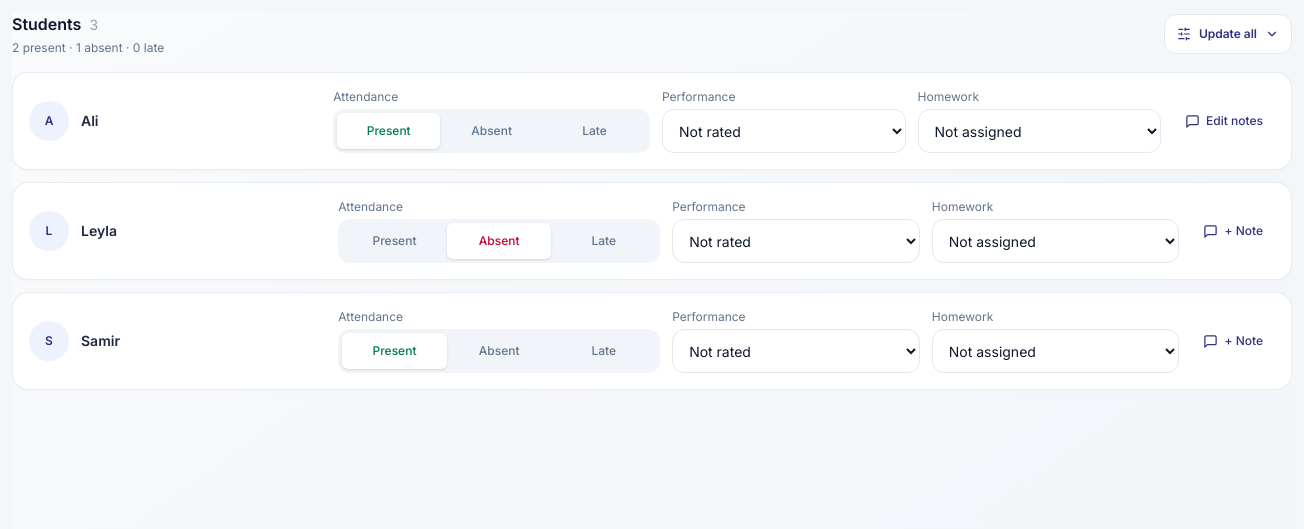
Scenario: Update all changes chosen fields and preserves existing notes and attendance
Click the button "Update all" at (1228, 34), box [1164,14,1292,54]
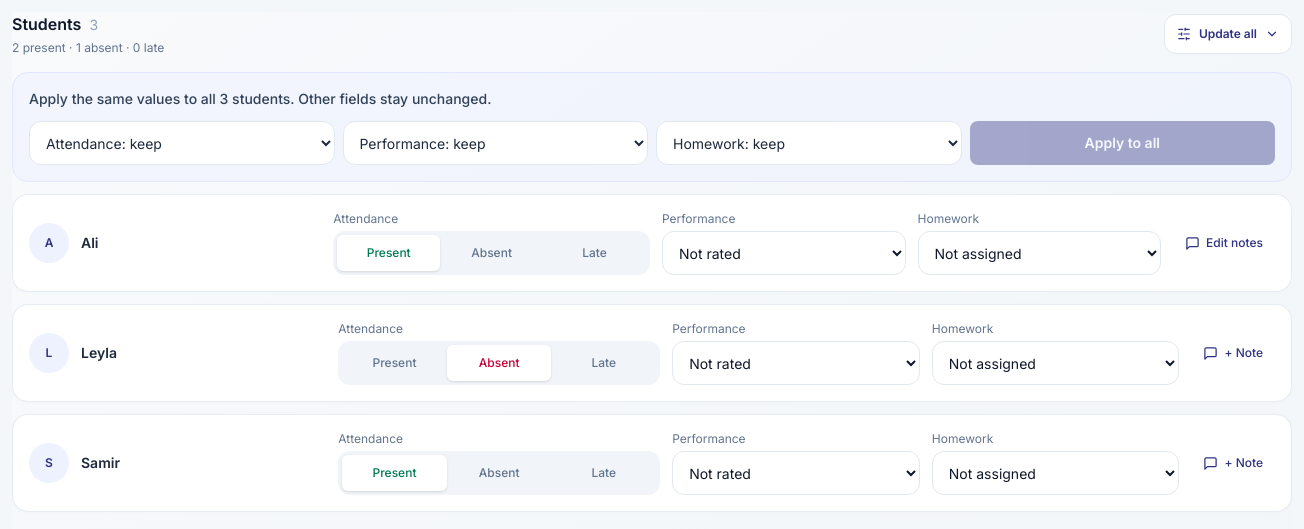
Select "Good" in the dropdown named "All students performance" at (495, 143), box [342,121,648,165]
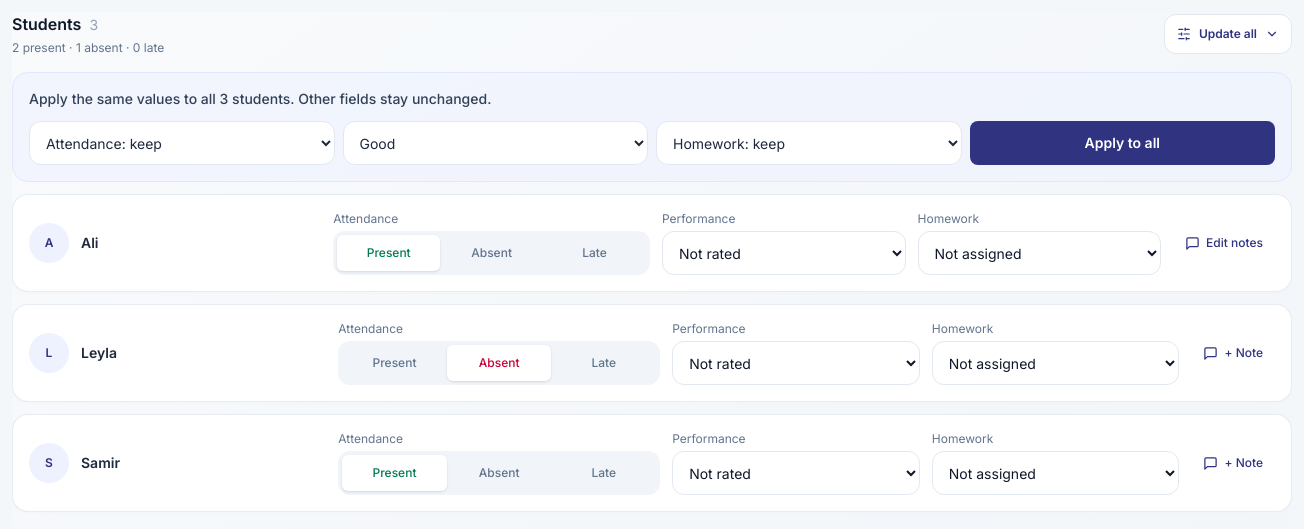
Select "Completed" in the dropdown named "All students homework" at (809, 143), box [656,121,962,165]
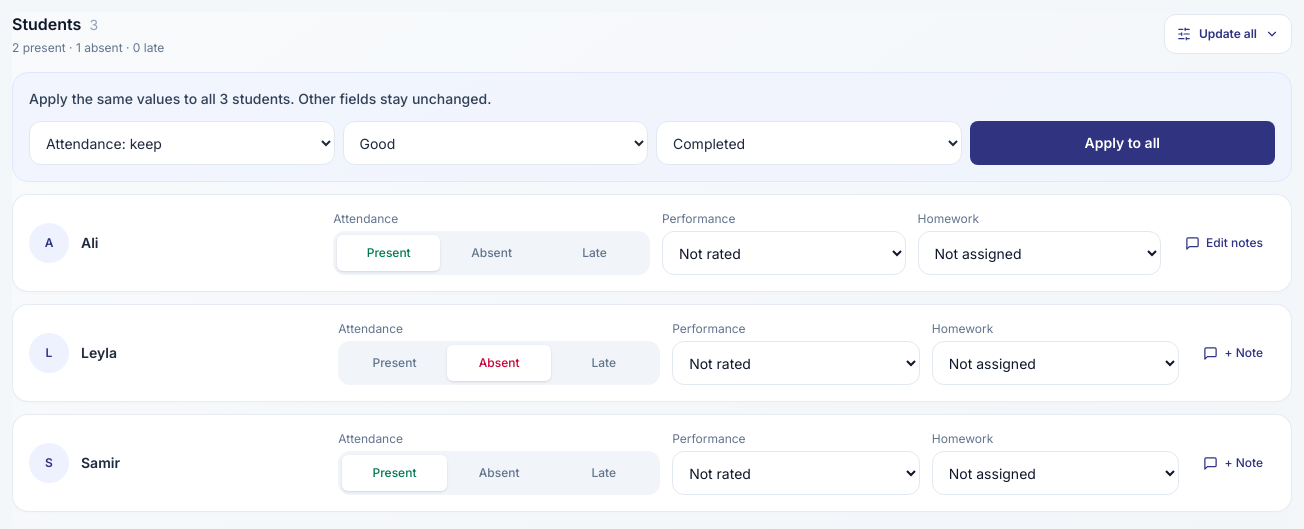
Expected: the button "Apply to all" is shown
Click the button "Apply to all" at (1122, 143), box [970,121,1275,165]
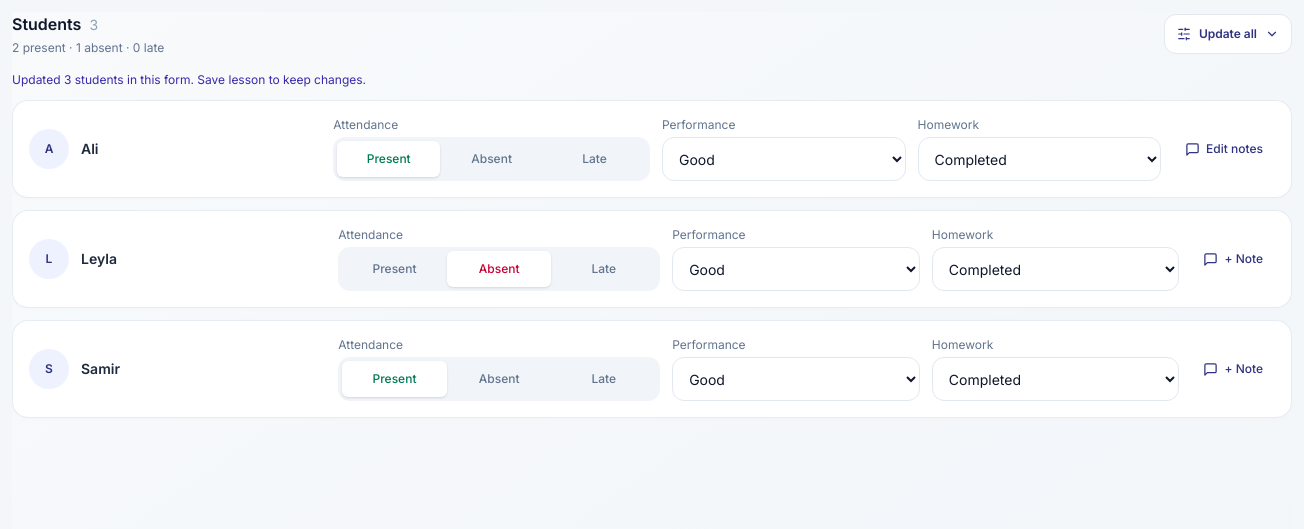
Expected: the message "Updated 3 students in this form. Save lesson to keep changes." is shown, [12,72,366,87]
